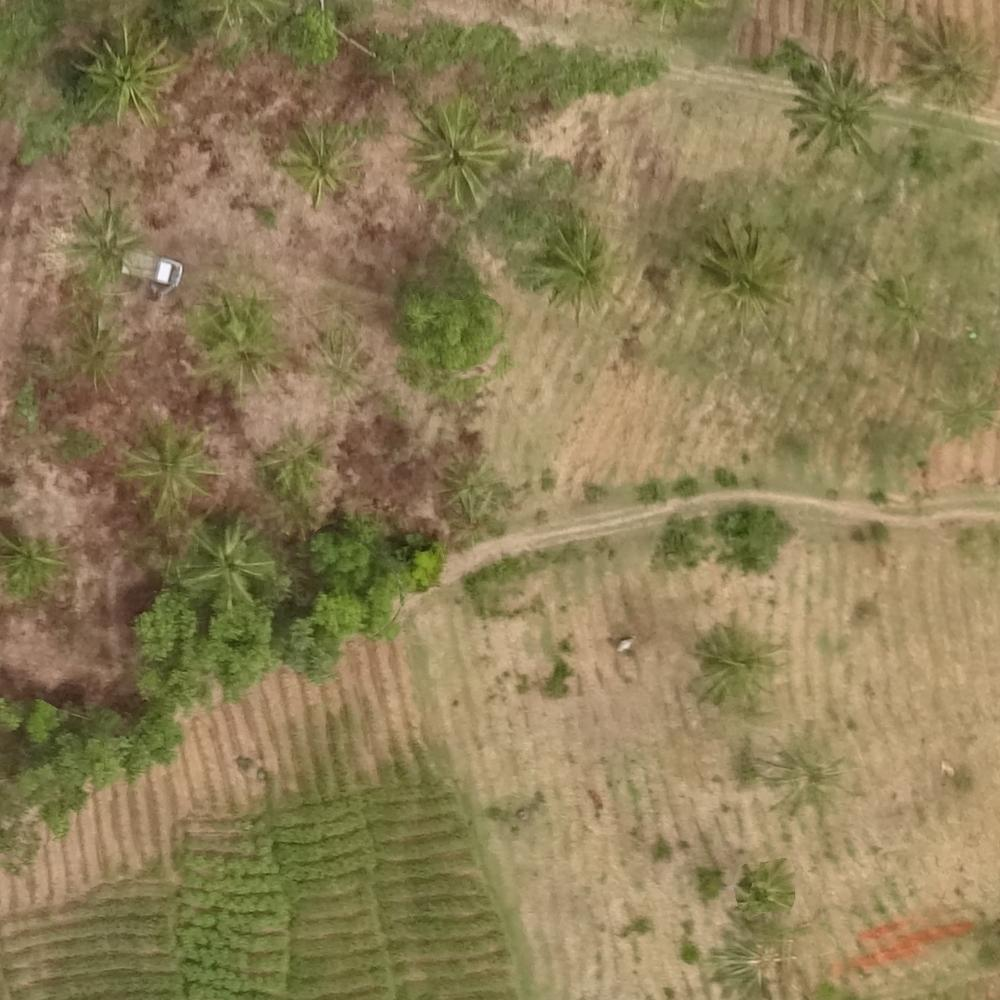Palm: (405, 105, 506, 206), (703, 225, 798, 328), (529, 219, 625, 313), (783, 61, 875, 155), (904, 27, 995, 122), (180, 521, 278, 608), (191, 301, 285, 391), (80, 31, 168, 127), (123, 426, 217, 514), (60, 204, 145, 285), (281, 118, 365, 197), (699, 621, 775, 706), (768, 744, 847, 813)
